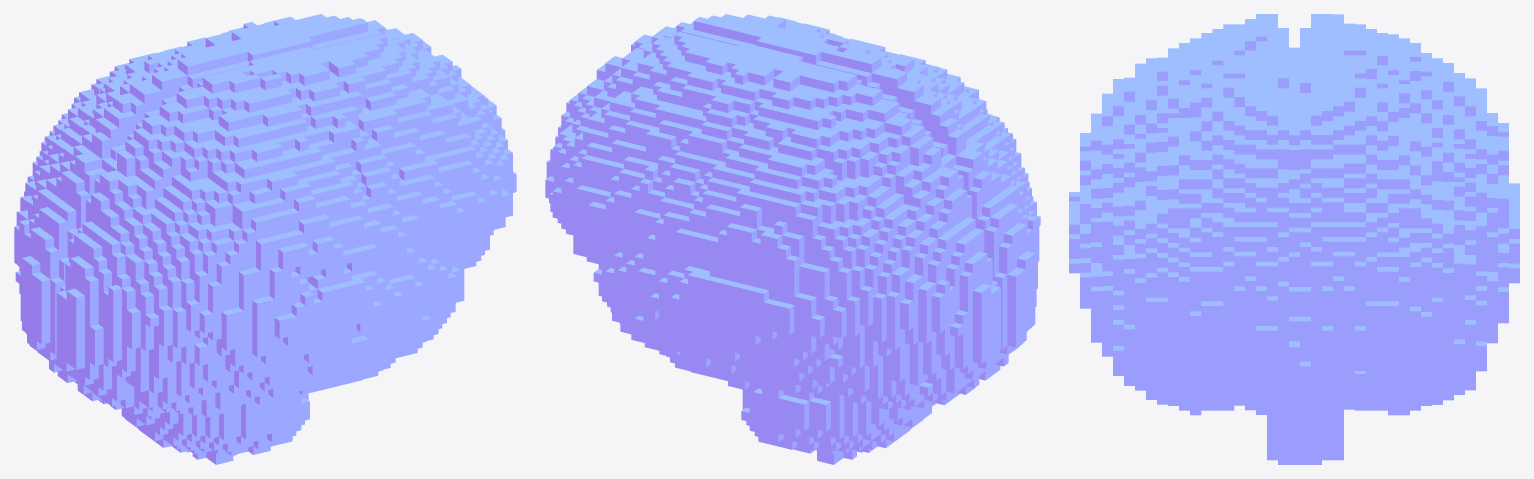
The model's file is asig_inteligencia_01.gltf.
3 views of the same model, side by side, from view 1: azimuth 30°, elevation 25°; view 2: azimuth 150°, elevation 25°; view 3: azimuth 270°, elevation 25° (orthographic). The views are drawn at different scales.
Visible parts, largest first — view 1: CEREVTO-0-brain; view 2: CEREVTO-0-brain; view 3: CEREVTO-0-brain.
Part boxes in pixels (x1,y1,x2,y2): CEREVTO-0-brain: (14, 14, 516, 464); CEREVTO-0-brain: (545, 14, 1040, 464); CEREVTO-0-brain: (1069, 14, 1519, 464).
Bounding box in the file's own units: 5 × 4.3 × 4.1.
